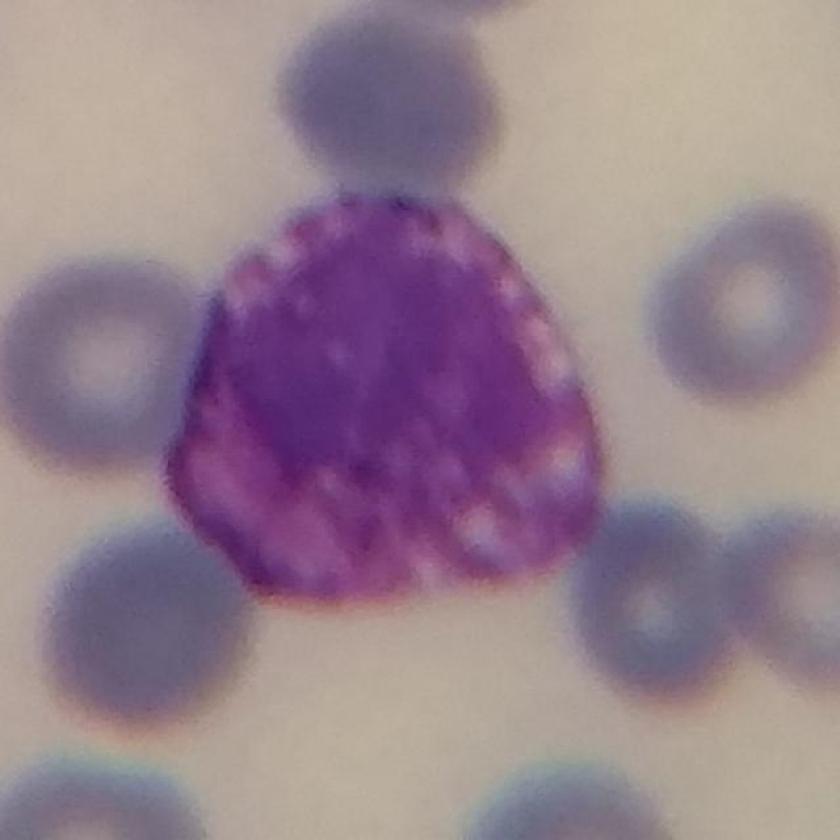basophil: (163, 183, 613, 618)
